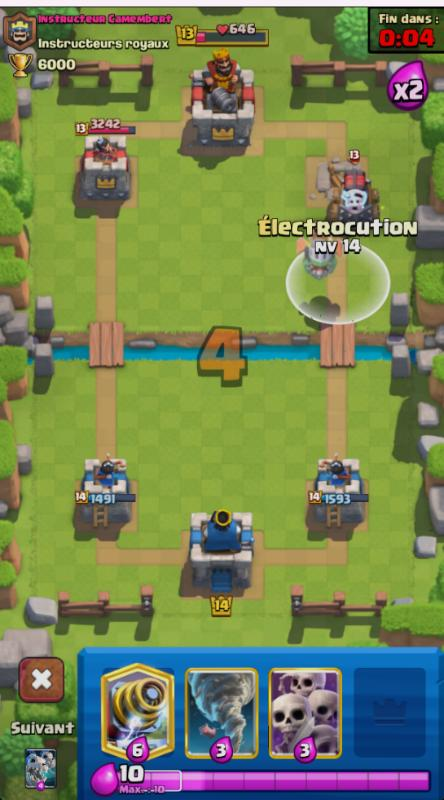zappy: (334, 171, 377, 228)
